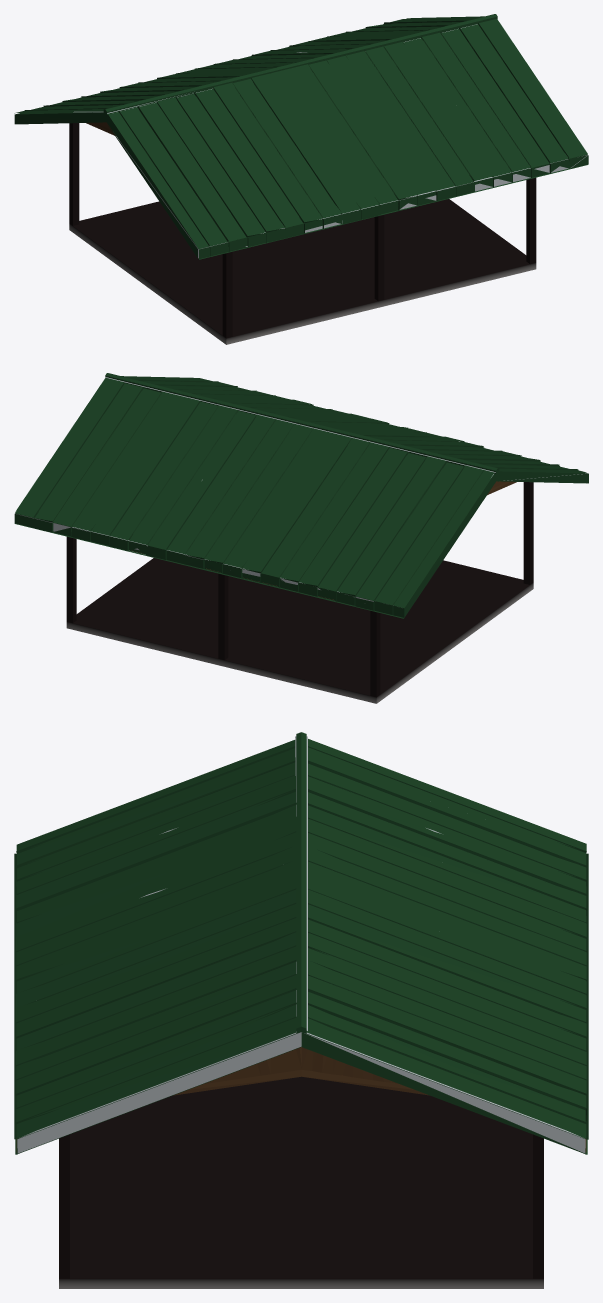
The model's file is rest-shelter.zfix-v6.lod0.glb.
The picture shows the model from 3 angles, top to bottom: view 1: azimuth 30°, elevation 25°; view 2: azimuth 150°, elevation 25°; view 3: azimuth 270°, elevation 25°; orthographic projection. The views are drawn at different scales.
Parts seen in each view (by area): view 1: Material2; view 2: Material2; view 3: Material2.
Part boxes in pixels (x1,y1,x2,y2): Material2: [14, 14, 588, 344]; Material2: [14, 373, 588, 703]; Material2: [14, 732, 588, 1288].
Bounding box in the file's own units: 10.37 × 4.77 × 8.53.
